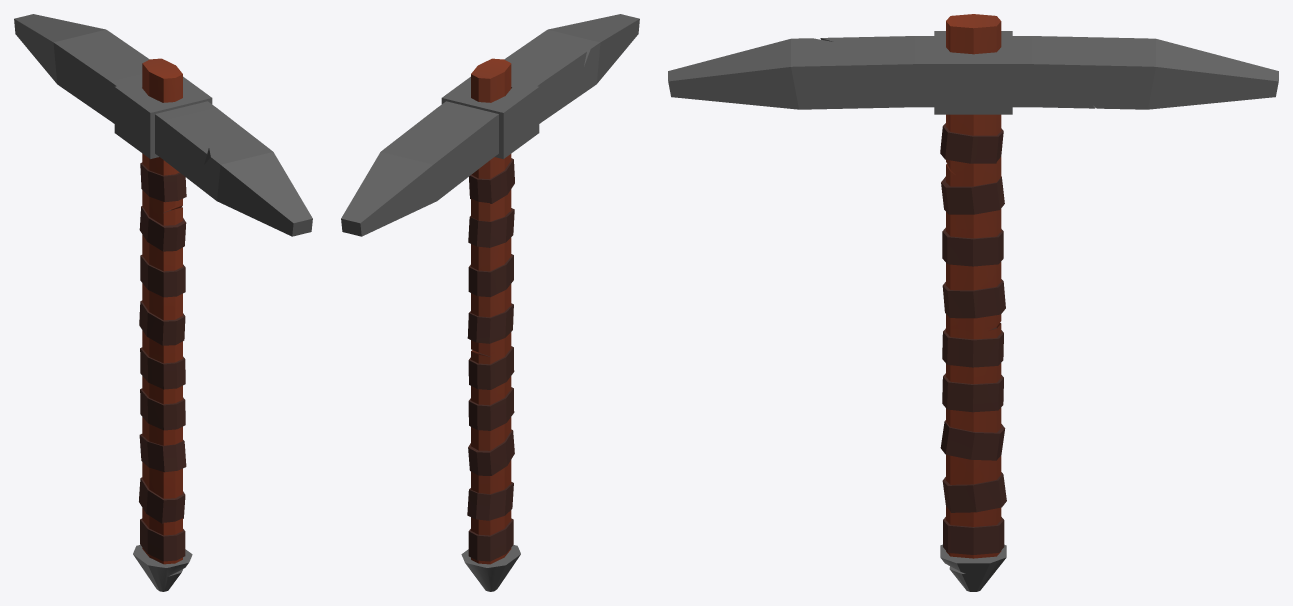
Rendered from pickaxe.fbx.
The picture shows the model from 3 angles, left to right: view 1: azimuth 30°, elevation 25°; view 2: azimuth 150°, elevation 25°; view 3: azimuth 270°, elevation 25°; orthographic projection. The views are drawn at different scales.
Visible parts, largest first — view 1: Cube; view 2: Cube; view 3: Cube.
Boxes of the visible parts, x1,y1,x2,y2 form: Cube: (14,14,312,591); Cube: (341,14,639,591); Cube: (668,14,1278,591).
Bounding box in the file's own units: 49.59 × 399 × 388.
1 material, 1 textured.
